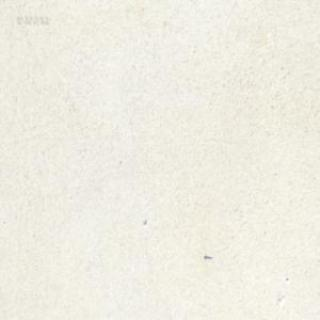Nailtrack_idkeyframe: (203, 253, 212, 258)
